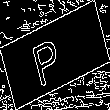P_N: (37, 25, 73, 85)
